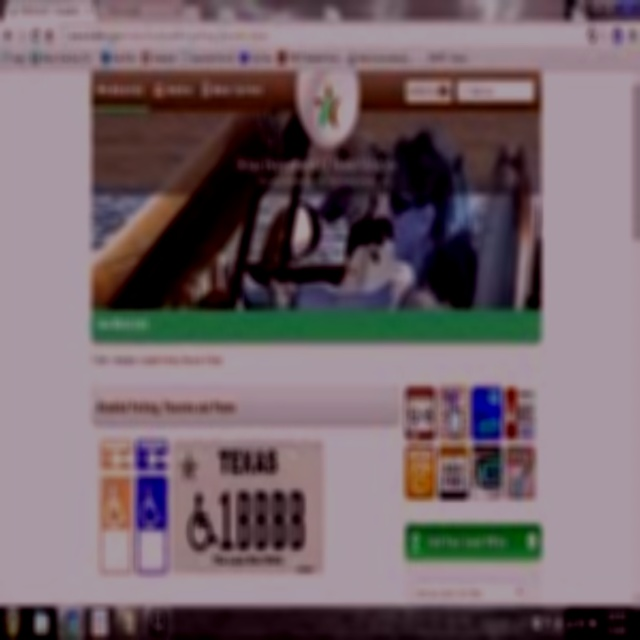ISA: (102, 481, 132, 533), (140, 476, 165, 532)
